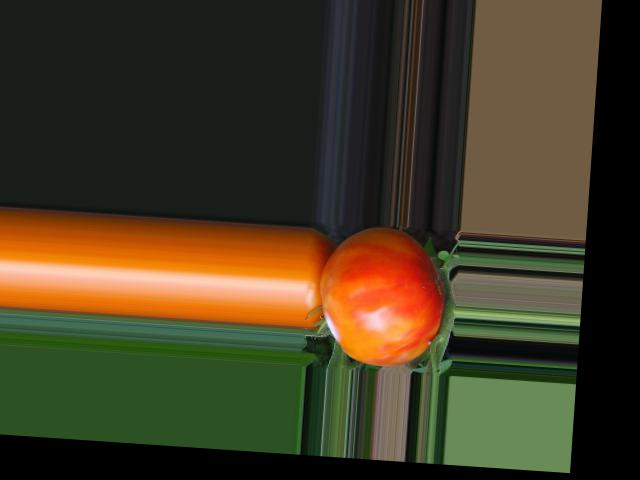tomato: (316, 223, 447, 369)
